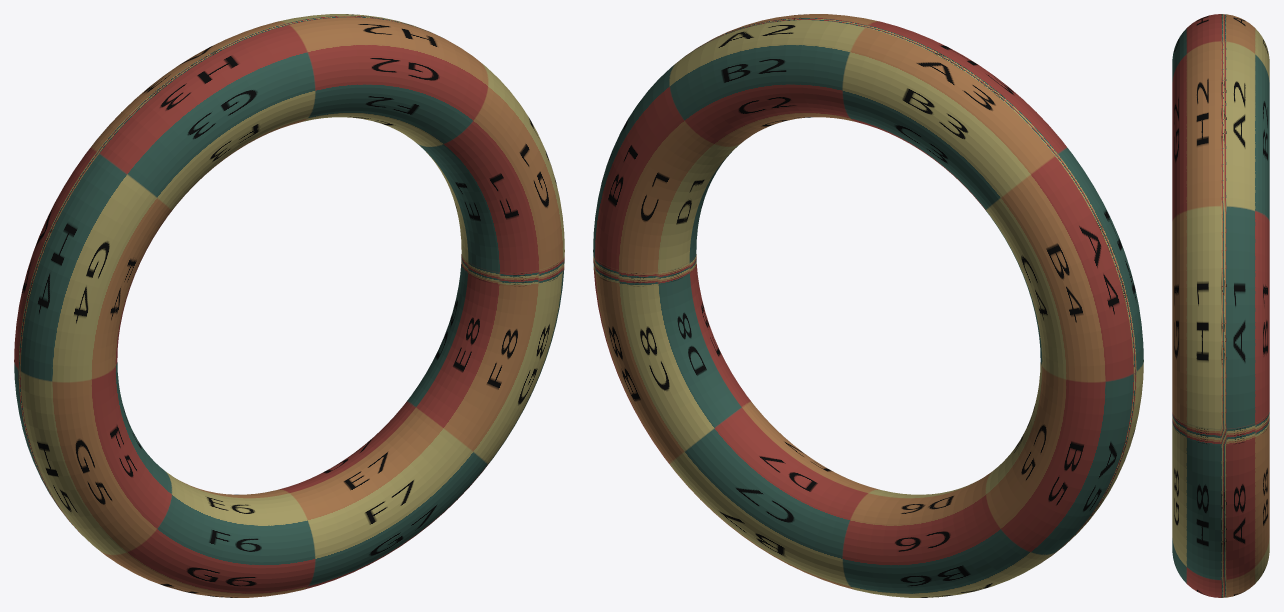
File: texture_torus_R8_r4.glb
The picture shows the model from 3 angles, left to right: view 1: azimuth 30°, elevation 25°; view 2: azimuth 150°, elevation 25°; view 3: azimuth 270°, elevation 25°; orthographic projection. The views are drawn at different scales.
Parts seen in each view (by area): view 1: world; view 2: world; view 3: world.
Boxes of the visible parts, bbox=[...] form: world: bbox=[14, 14, 564, 597]; world: bbox=[593, 14, 1143, 597]; world: bbox=[1172, 14, 1269, 597].
Bounding box in the file's own units: 33.33 × 33.33 × 5.54.
Materials: 1 (1 with a texture image).
